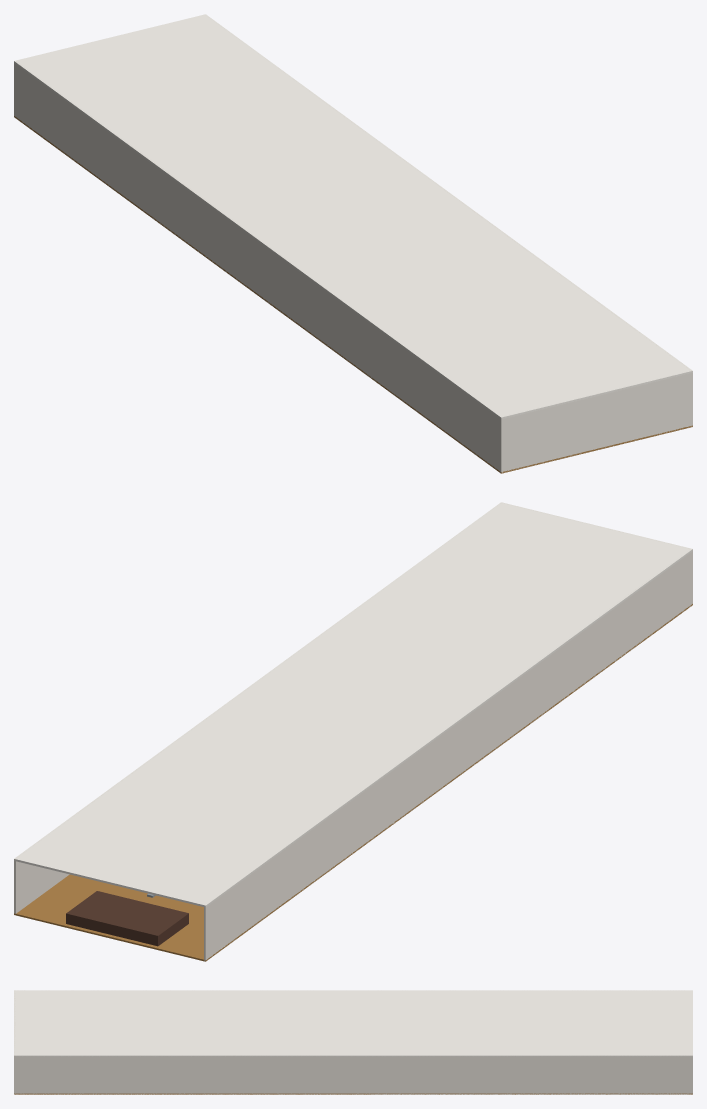
Rendered from 169-Crucero_comedor.glb.
3 views of the same model, one above another, from view 1: azimuth 30°, elevation 25°; view 2: azimuth 150°, elevation 25°; view 3: azimuth 270°, elevation 25° (orthographic). The views are drawn at different scales.
Parts seen in each view (by area): view 1: SM_Cri_Comedor_Techo, SM_Cri_Comedor_Pared_B, SM_Cri_Comedor_Pared_Popa, SM_Cri_Comedor_Piso, SM_Cri_Comedor_Pared_E; view 2: SM_Cri_Comedor_Techo, SM_Cri_Comedor_Pared_B, SM_Cri_Comedor_Piso, SM_Cri_Escenario, SM_Cri_Comedor_Pared_E; view 3: SM_Cri_Comedor_Techo, SM_Cri_Comedor_Pared_E, SM_Cri_Comedor_Piso.
Part boxes in pixels (left/top/right/bottom): SM_Cri_Comedor_Techo: left=14, top=14, right=692, bottom=419; SM_Cri_Comedor_Pared_B: left=14, top=61, right=502, bottom=473; SM_Cri_Comedor_Pared_Popa: left=500, top=370, right=692, bottom=472; SM_Cri_Comedor_Piso: left=14, top=116, right=692, bottom=473; SM_Cri_Comedor_Pared_E: left=205, top=14, right=692, bottom=426; SM_Cri_Comedor_Techo: left=14, top=502, right=692, bottom=907; SM_Cri_Comedor_Pared_B: left=204, top=549, right=692, bottom=961; SM_Cri_Comedor_Piso: left=14, top=604, right=692, bottom=961; SM_Cri_Escenario: left=66, top=891, right=188, bottom=946; SM_Cri_Comedor_Pared_E: left=14, top=503, right=501, bottom=913; SM_Cri_Comedor_Techo: left=14, top=990, right=692, bottom=1056; SM_Cri_Comedor_Pared_E: left=14, top=1055, right=692, bottom=1094; SM_Cri_Comedor_Piso: left=14, top=1093, right=692, bottom=1094.
Bounding box in the file's own units: 10 × 2.81 × 44.
